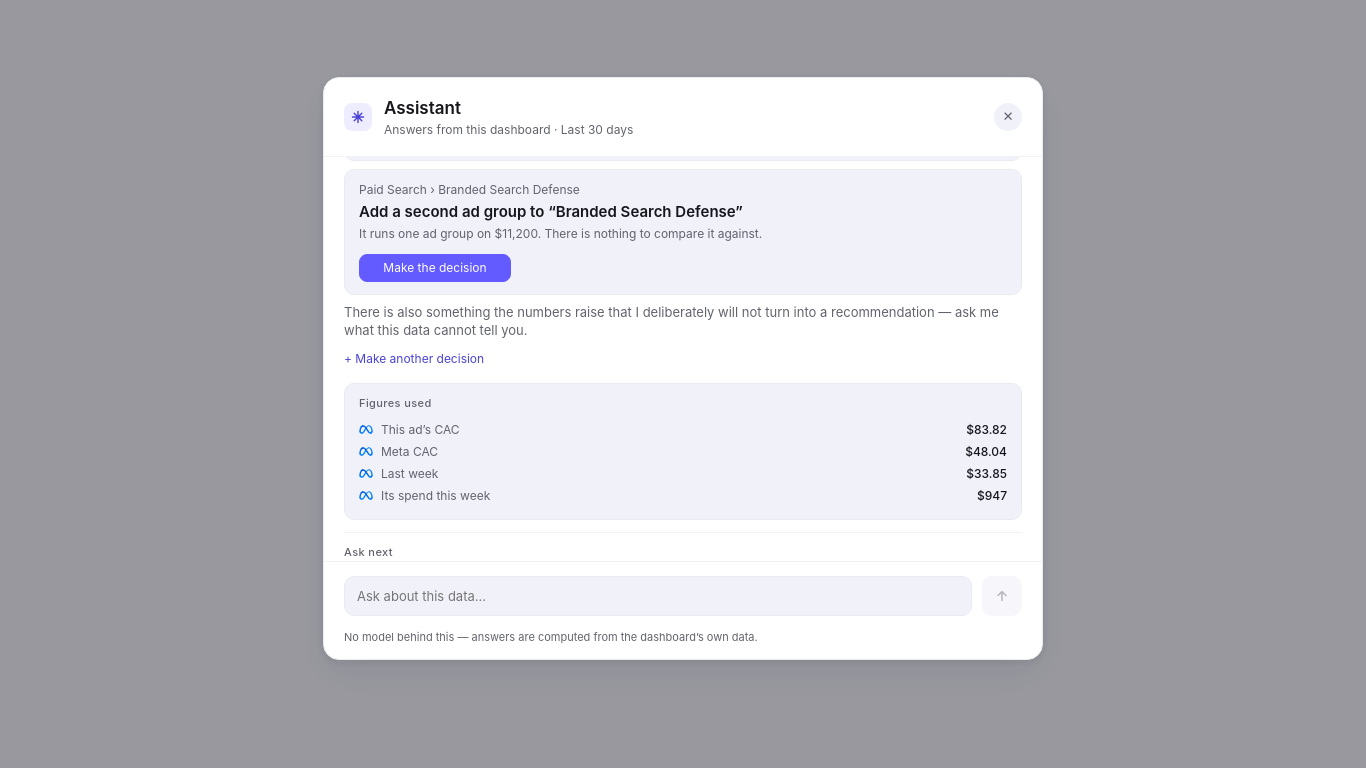
Test: a decision you write stays previewed, like one you accept › is marked as yours, not as an engine proposal
The image size is (1366, 768).
(page scrolled)
Click the button "+ Make another decision".
click(414, 359)  # box [344,347,484,371]
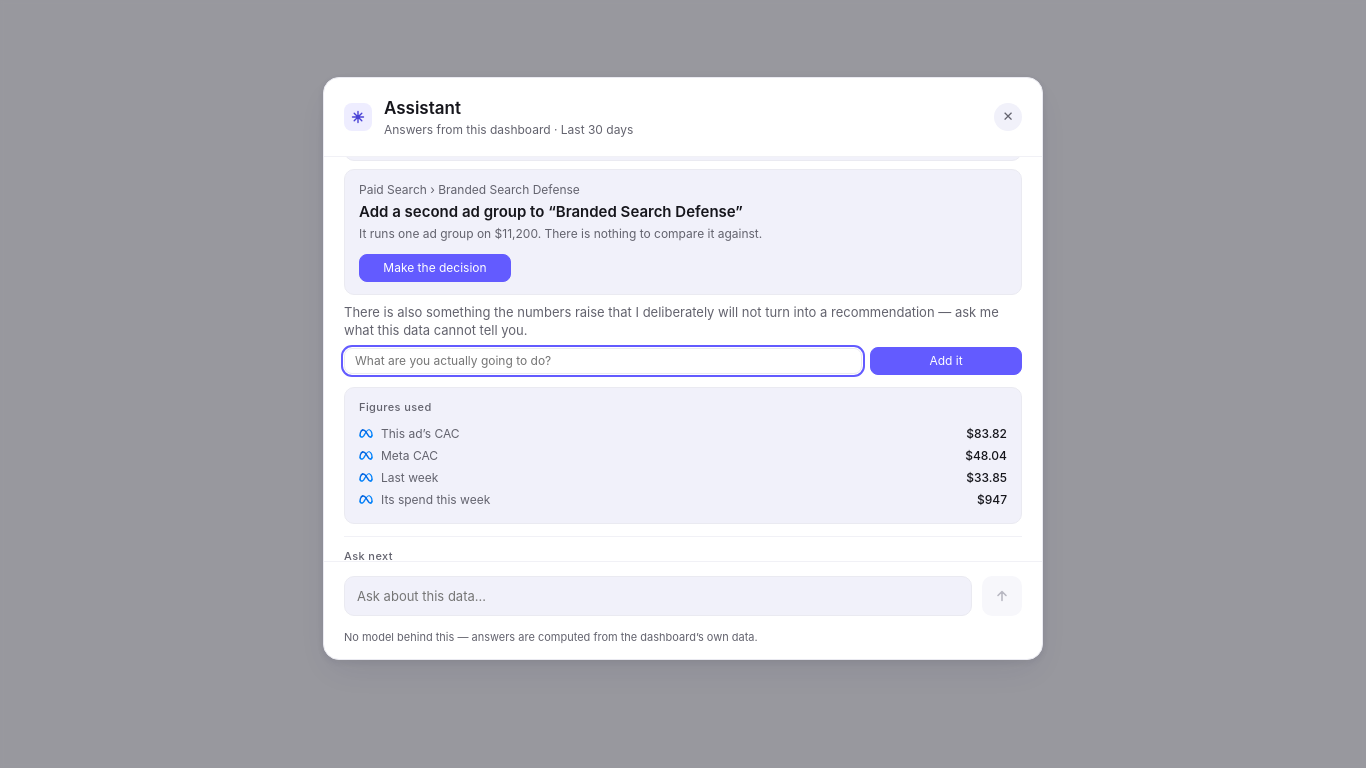
Type "Test a new hook" into the field with placeholder "What are you actually going to do?".
click(603, 361); type("Test a new hook")  # box [344,348,862,374]
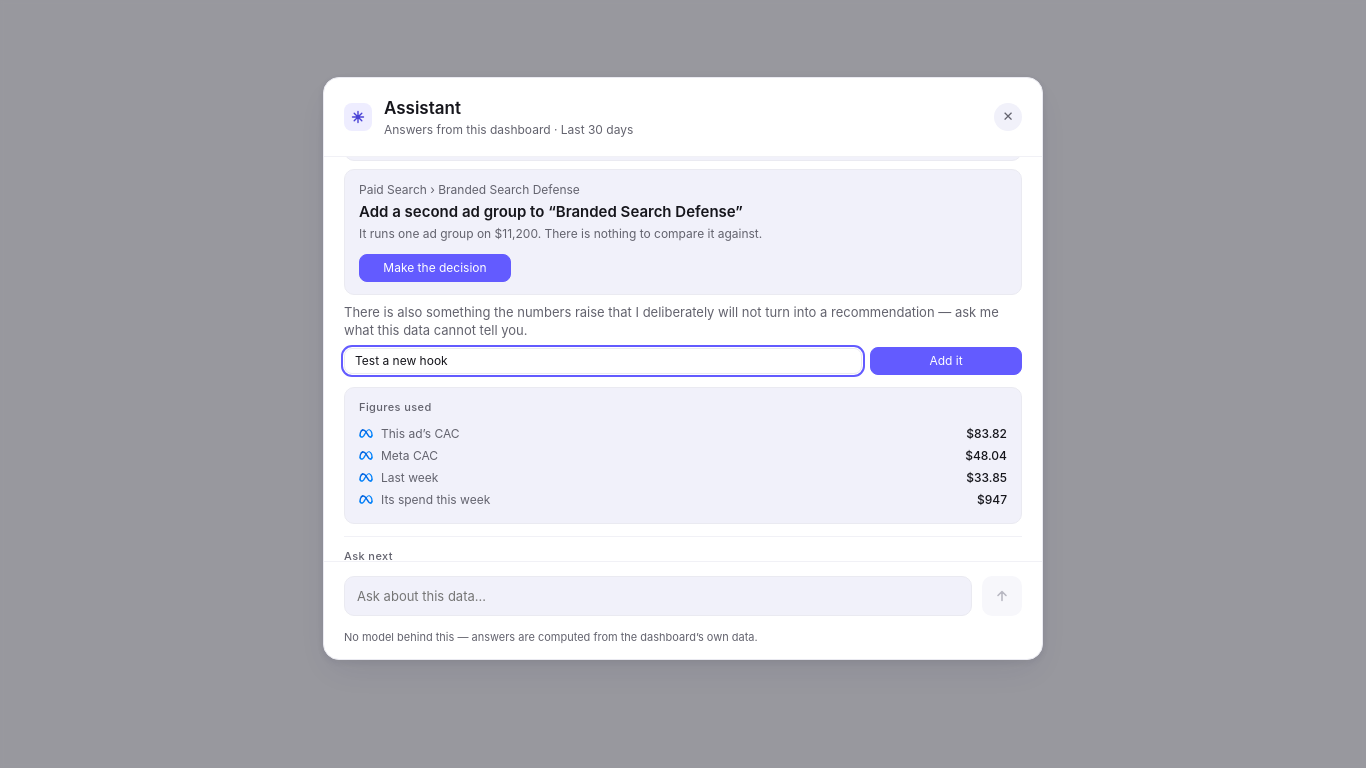
Click the button "Add it".
click(946, 361)  # box [870,347,1022,375]
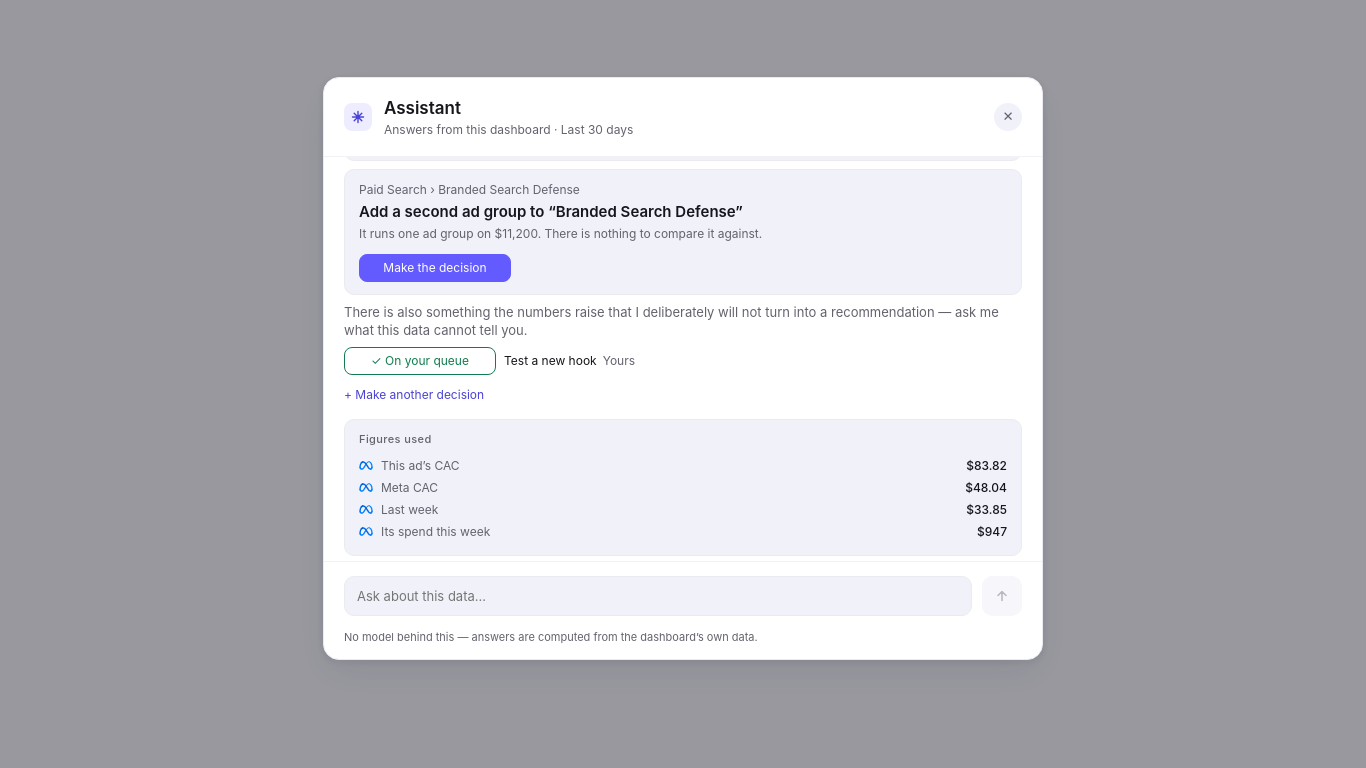
Check: the text "Yours" is shown, box [603,353,635,369]
